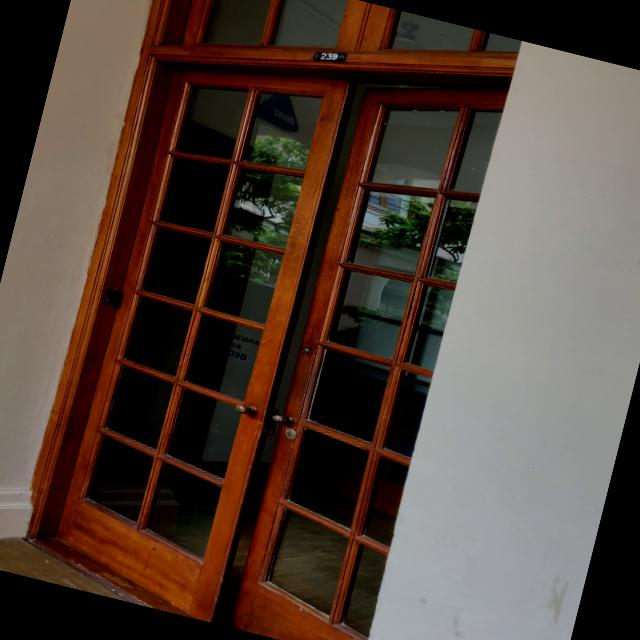room239: (309, 43, 347, 70)
